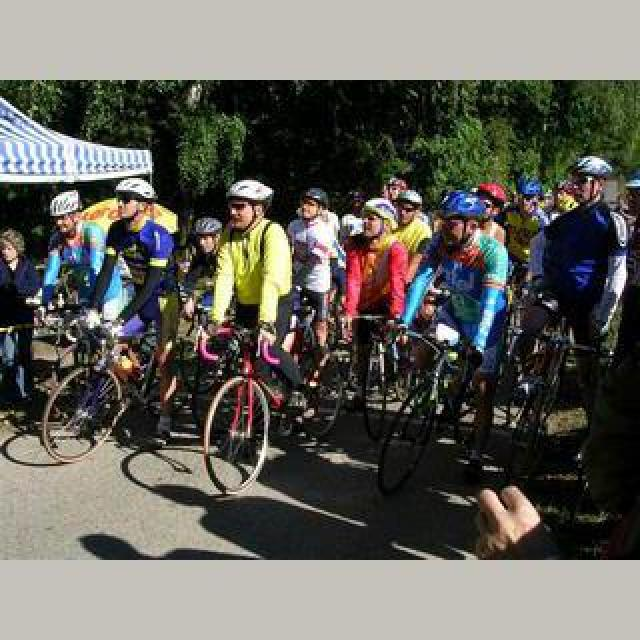MC-Bike: (502, 154, 632, 552), (402, 204, 512, 446), (84, 182, 178, 450), (210, 180, 294, 442), (152, 214, 230, 444), (342, 198, 412, 410), (286, 186, 344, 386), (40, 188, 104, 316), (0, 230, 42, 402)
Person: (38, 308, 182, 466), (202, 320, 326, 496), (376, 308, 480, 496), (500, 300, 584, 488)
